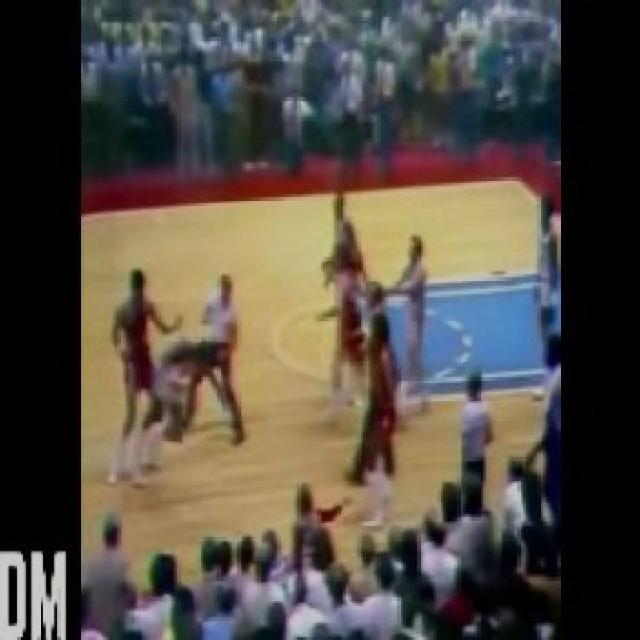fight: (158, 278, 248, 449)
non-fight: (111, 266, 178, 481), (348, 312, 403, 529), (320, 240, 380, 436), (381, 235, 431, 398), (324, 186, 367, 289), (457, 371, 493, 493), (537, 194, 558, 352)
